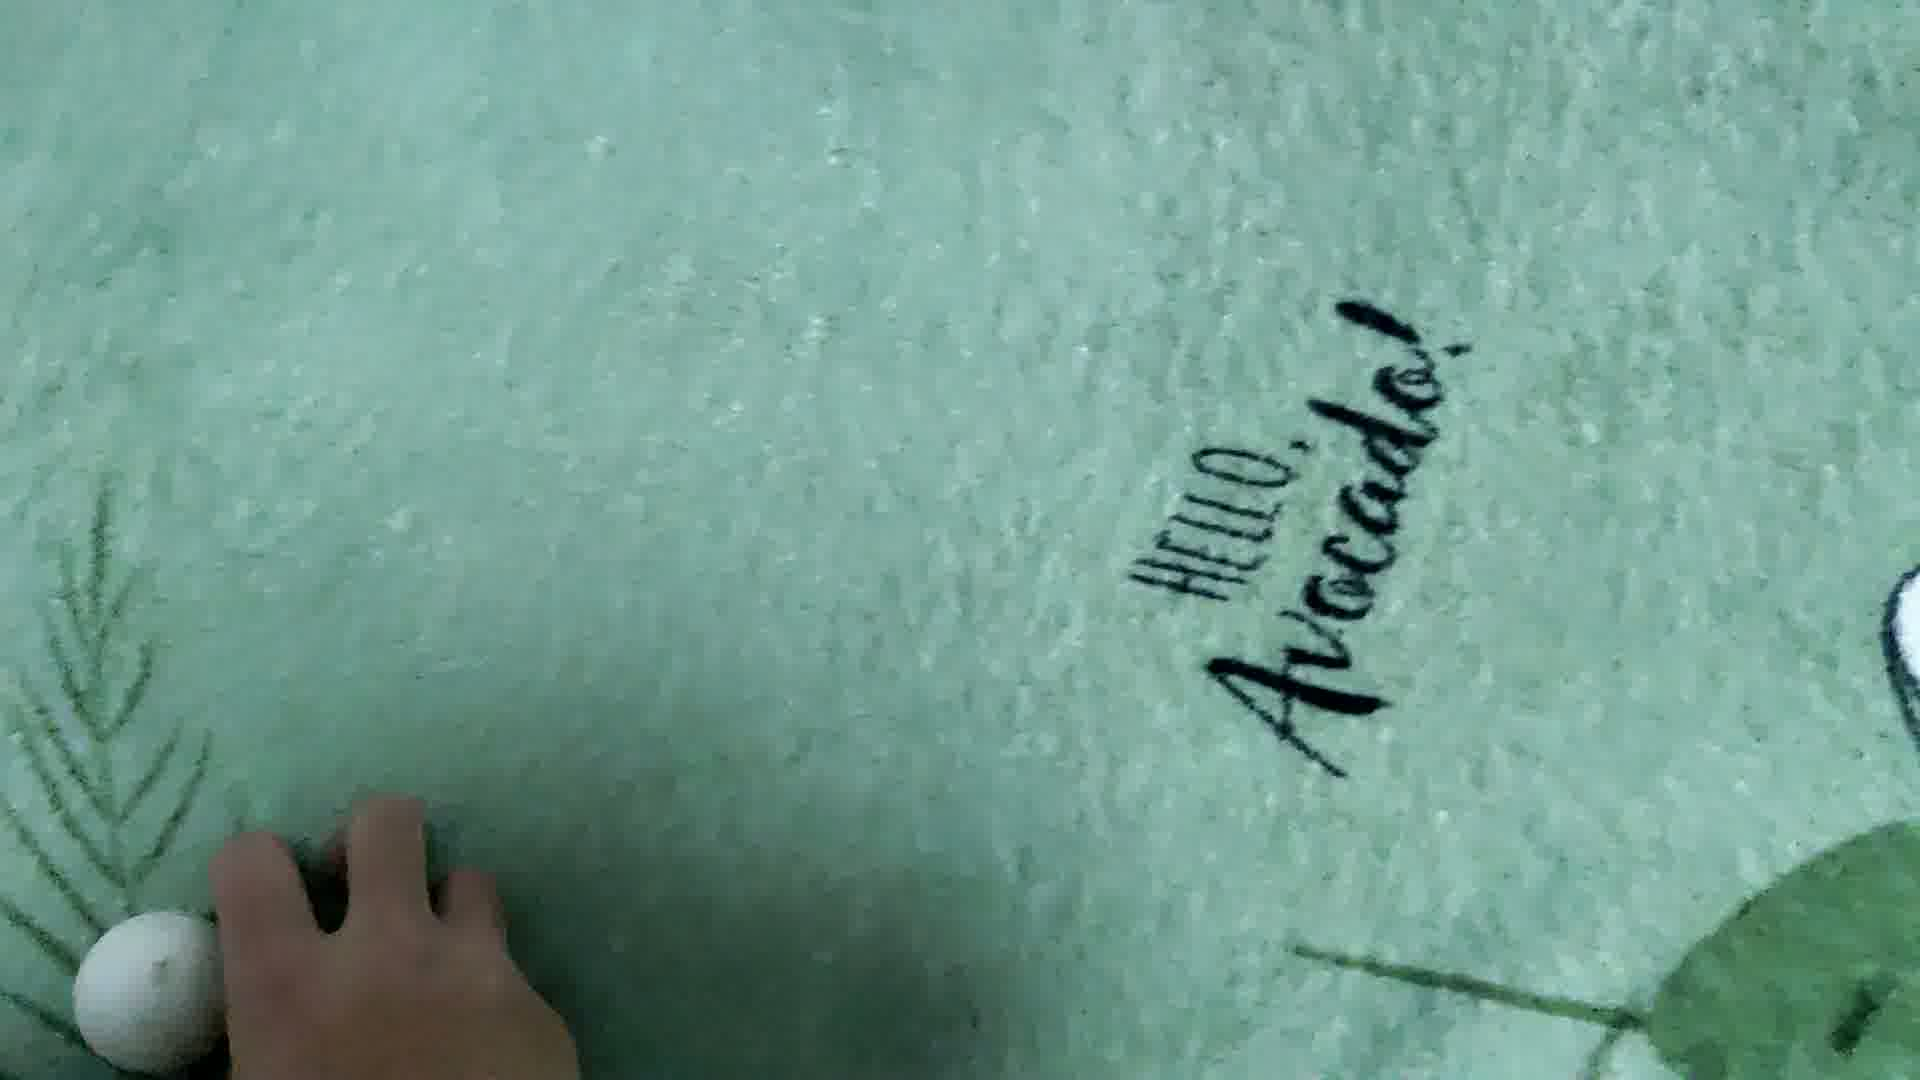Ball: (73, 906, 256, 1080)
